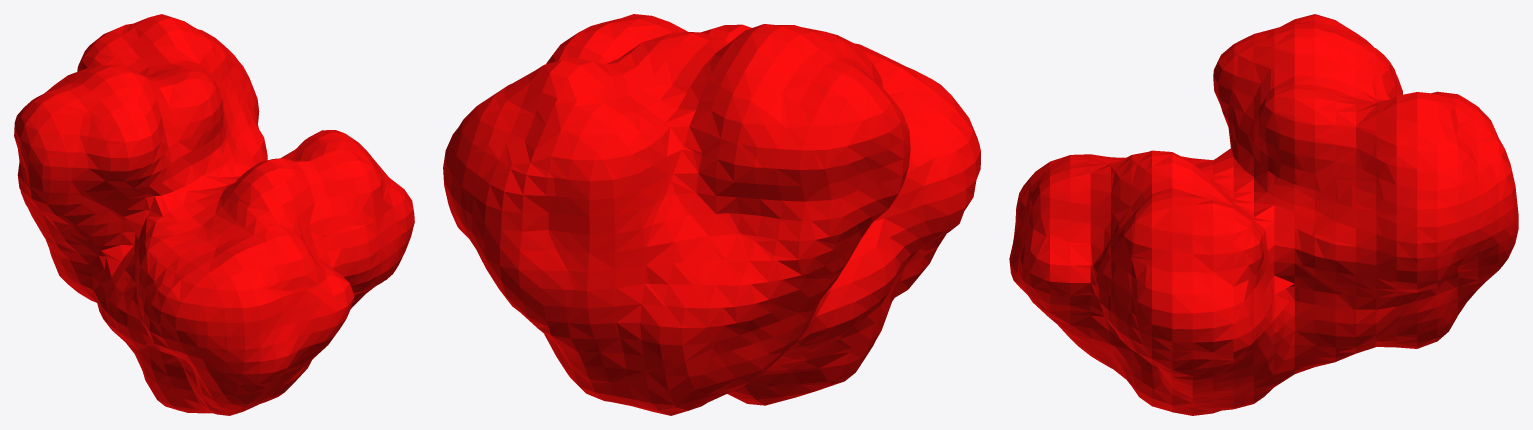
File: sodA_coarse.dae
3 renders of one model, left to right at view 1: azimuth 30°, elevation 25°; view 2: azimuth 150°, elevation 25°; view 3: azimuth 270°, elevation 25°, orthographic. The views are drawn at different scales.
Parts seen in each view (by area): view 1: sodA; view 2: sodA; view 3: sodA.
Part boxes in pixels (x1=…): sodA: x1=14, y1=14, x2=414, y2=415; sodA: x1=443, y1=14, x2=980, y2=415; sodA: x1=1009, y1=14, x2=1518, y2=415.
Size of the model in its own units: 60.38 by 55.94 by 73.36.
